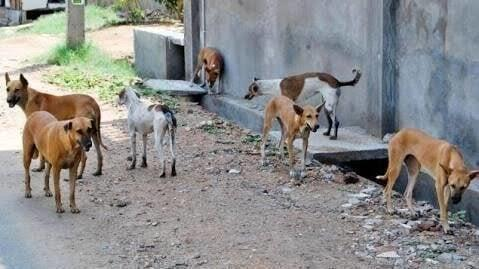normal_dogs: (2, 70, 112, 178), (378, 120, 479, 236), (243, 64, 364, 136), (19, 106, 96, 218), (118, 80, 180, 186), (261, 94, 325, 179), (191, 39, 226, 95)
